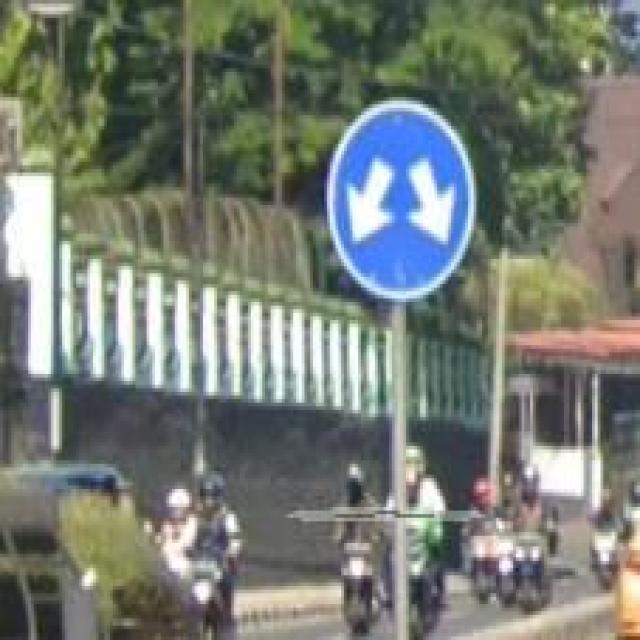left_righ_lane: (327, 94, 477, 299)
